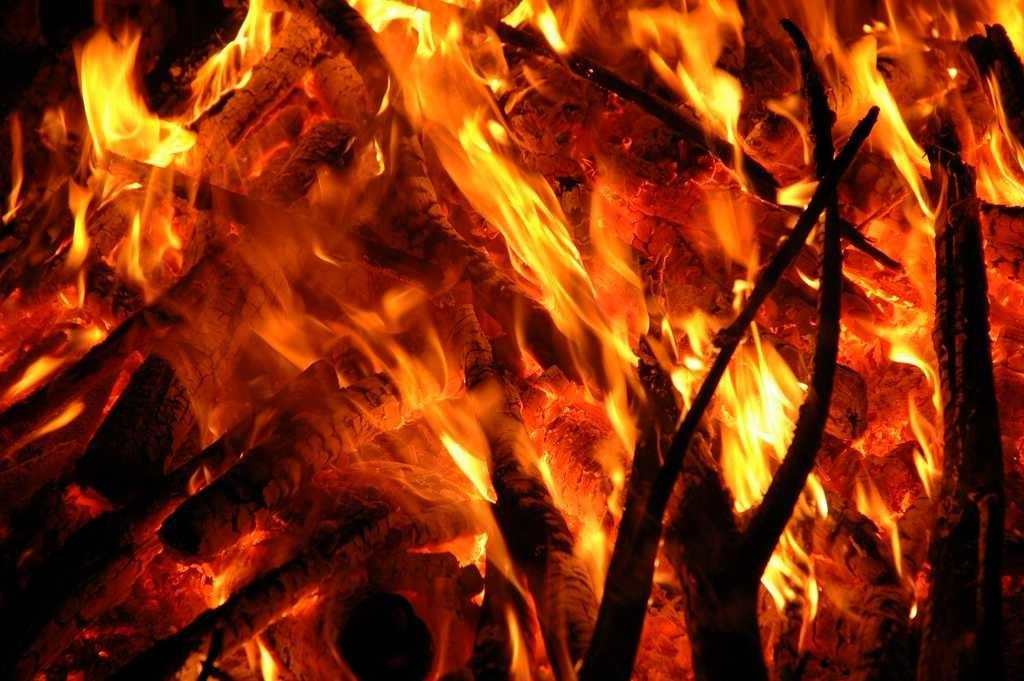fire: (472, 142, 555, 290), (628, 0, 740, 107), (435, 378, 528, 498), (83, 33, 167, 160), (840, 30, 912, 175), (713, 363, 797, 475)
